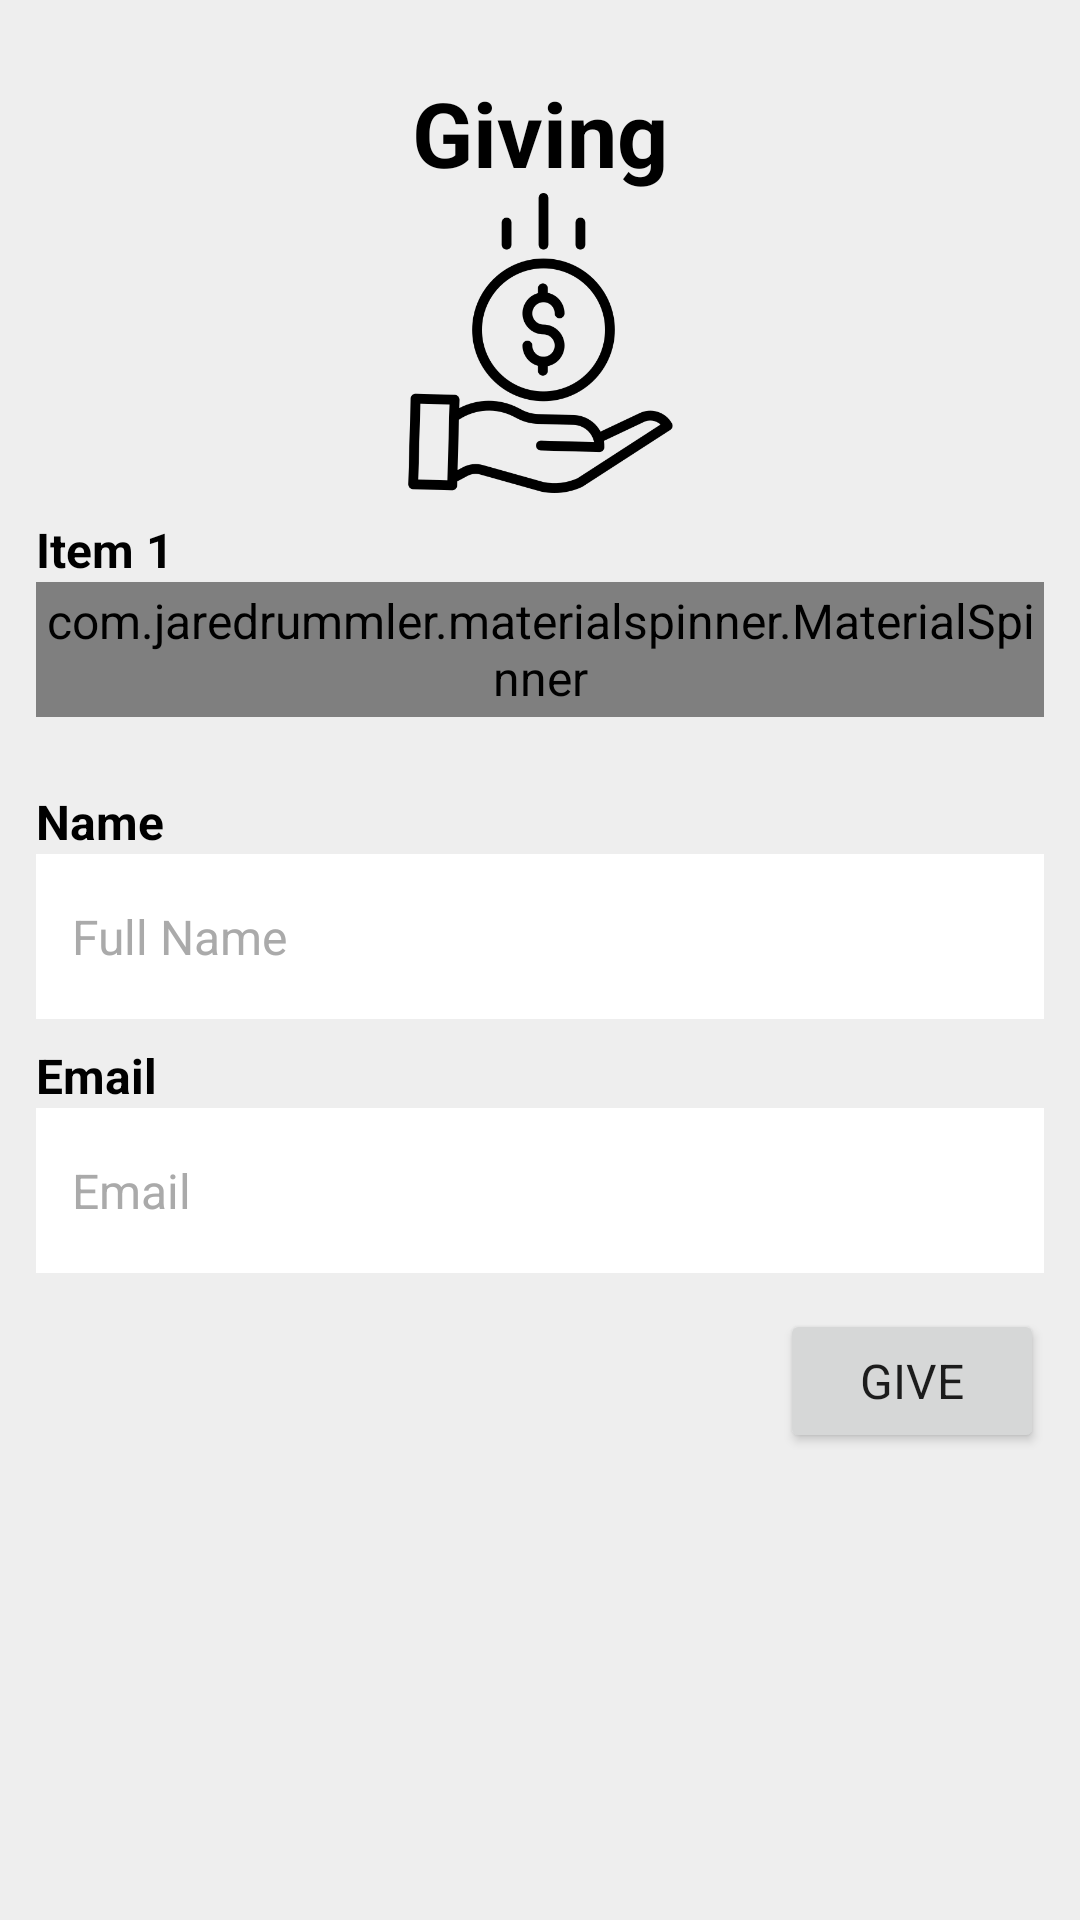

Icons on this 1080w x 1920h Android screen, each with its box as (x1, y1, x2, y2):
money: (408, 193, 673, 493)
